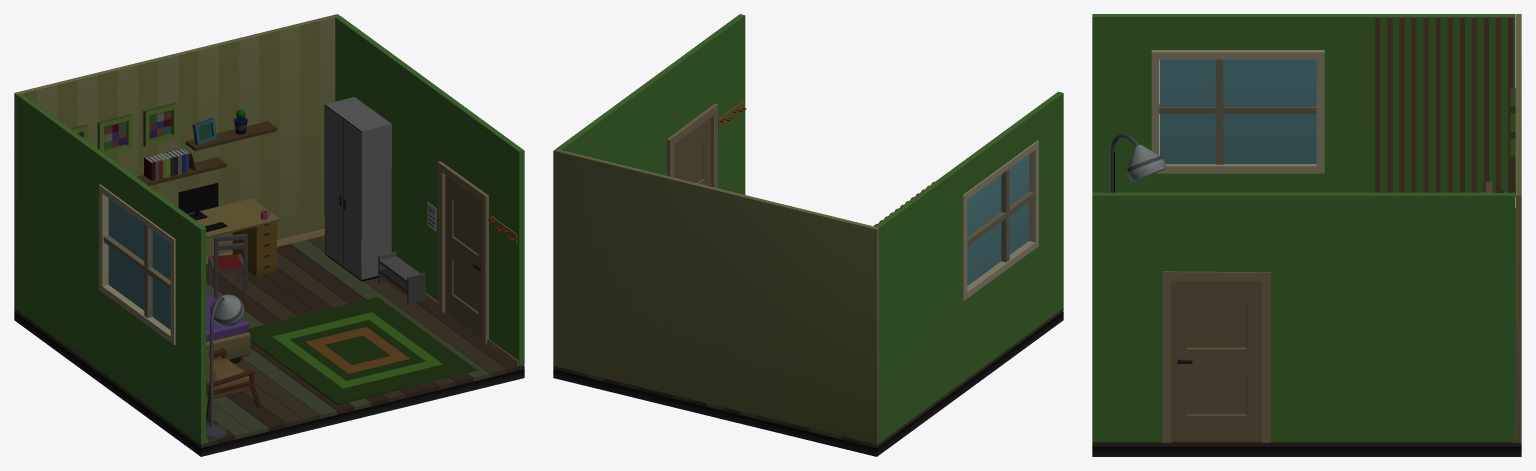
File: room.glb
The picture shows the model from 3 angles, left to right: view 1: azimuth 30°, elevation 25°; view 2: azimuth 150°, elevation 25°; view 3: azimuth 270°, elevation 25°; orthographic projection. The views are drawn at different scales.
Parts seen in each view (by area): view 1: room; view 2: room; view 3: room.
Part boxes in pixels (x1=…): room: x1=14, y1=14, x2=524, y2=456; room: x1=553, y1=14, x2=1063, y2=456; room: x1=1092, y1=14, x2=1521, y2=456.
Size of the model in its own units: 3.56 by 2.37 by 3.53.
